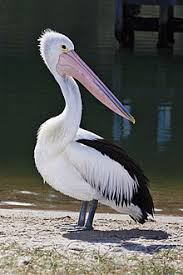pelican: (34, 29, 154, 231)
